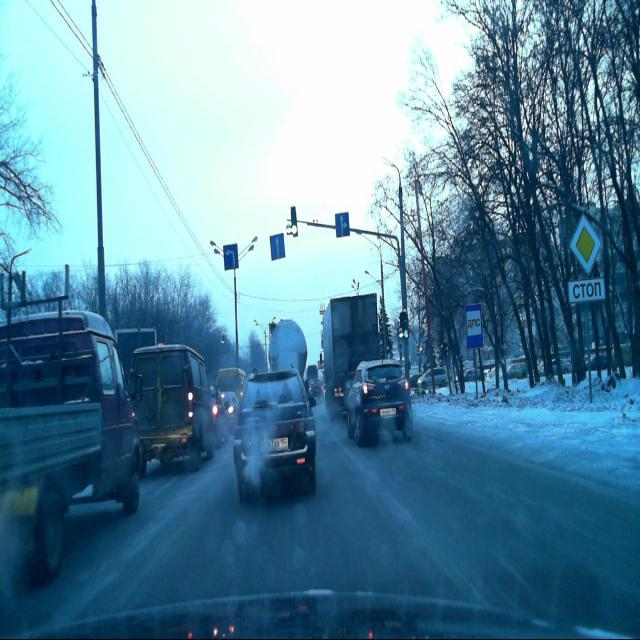object: (586, 307, 593, 404)
road sign: (570, 214, 601, 276), (568, 279, 606, 302), (466, 304, 484, 348), (224, 243, 238, 272), (271, 233, 286, 260), (335, 212, 350, 237)
